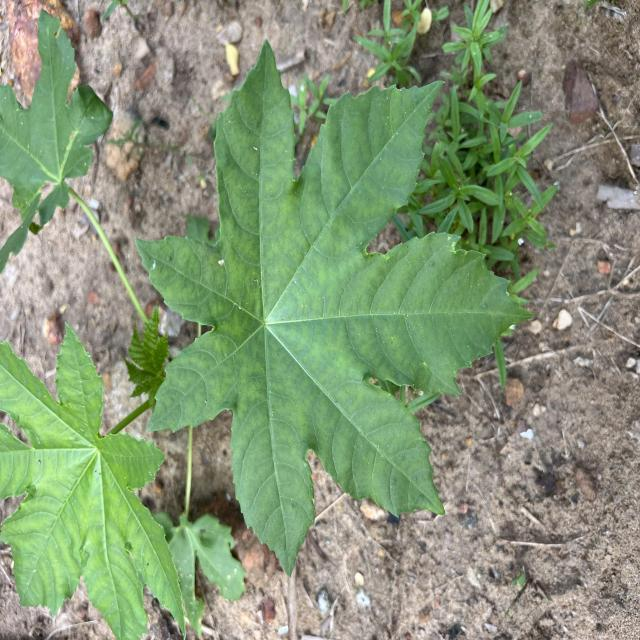Ricinus communis linn: (132, 33, 537, 583)
